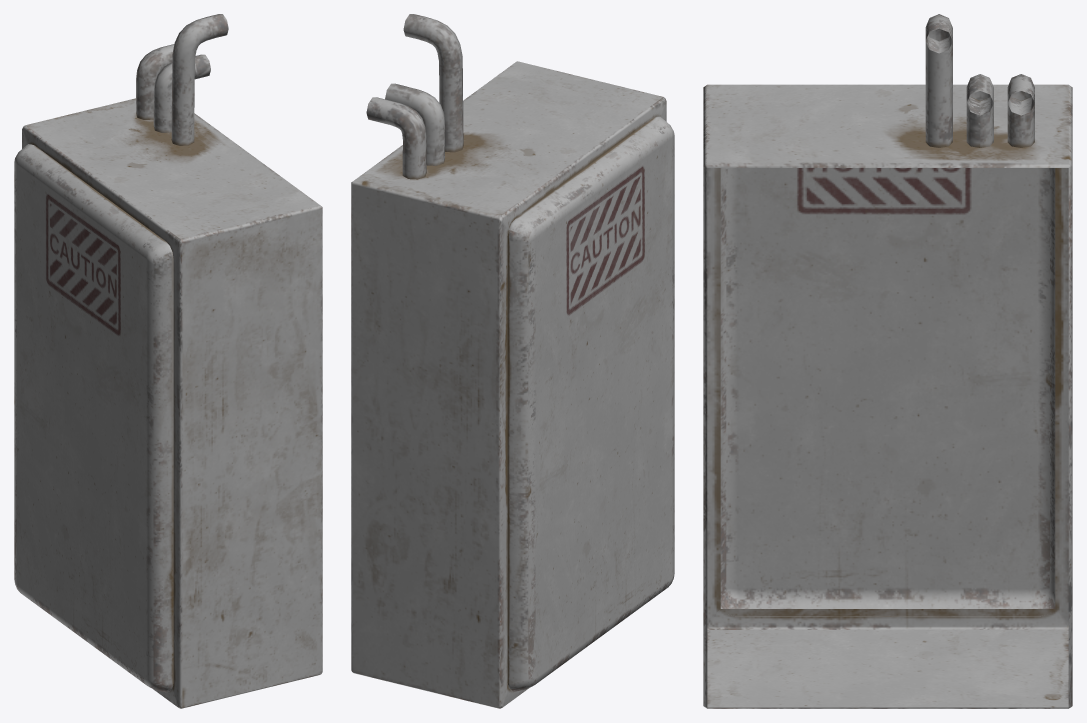
The model's file is SM_electric_box_s.fbx.
3 views of the same model, side by side, from view 1: azimuth 30°, elevation 25°; view 2: azimuth 150°, elevation 25°; view 3: azimuth 270°, elevation 25° (orthographic). The views are drawn at different scales.
Parts seen in each view (by area): view 1: SM_electric_box_s_LOD0; view 2: SM_electric_box_s_LOD0; view 3: SM_electric_box_s_LOD0.
Part boxes in pixels (<box>): SM_electric_box_s_LOD0: <box>14,14,322,708</box>; SM_electric_box_s_LOD0: <box>351,14,674,708</box>; SM_electric_box_s_LOD0: <box>703,14,1072,708</box>.
Bounding box in the file's own units: 27 × 45.56 × 92.82.
